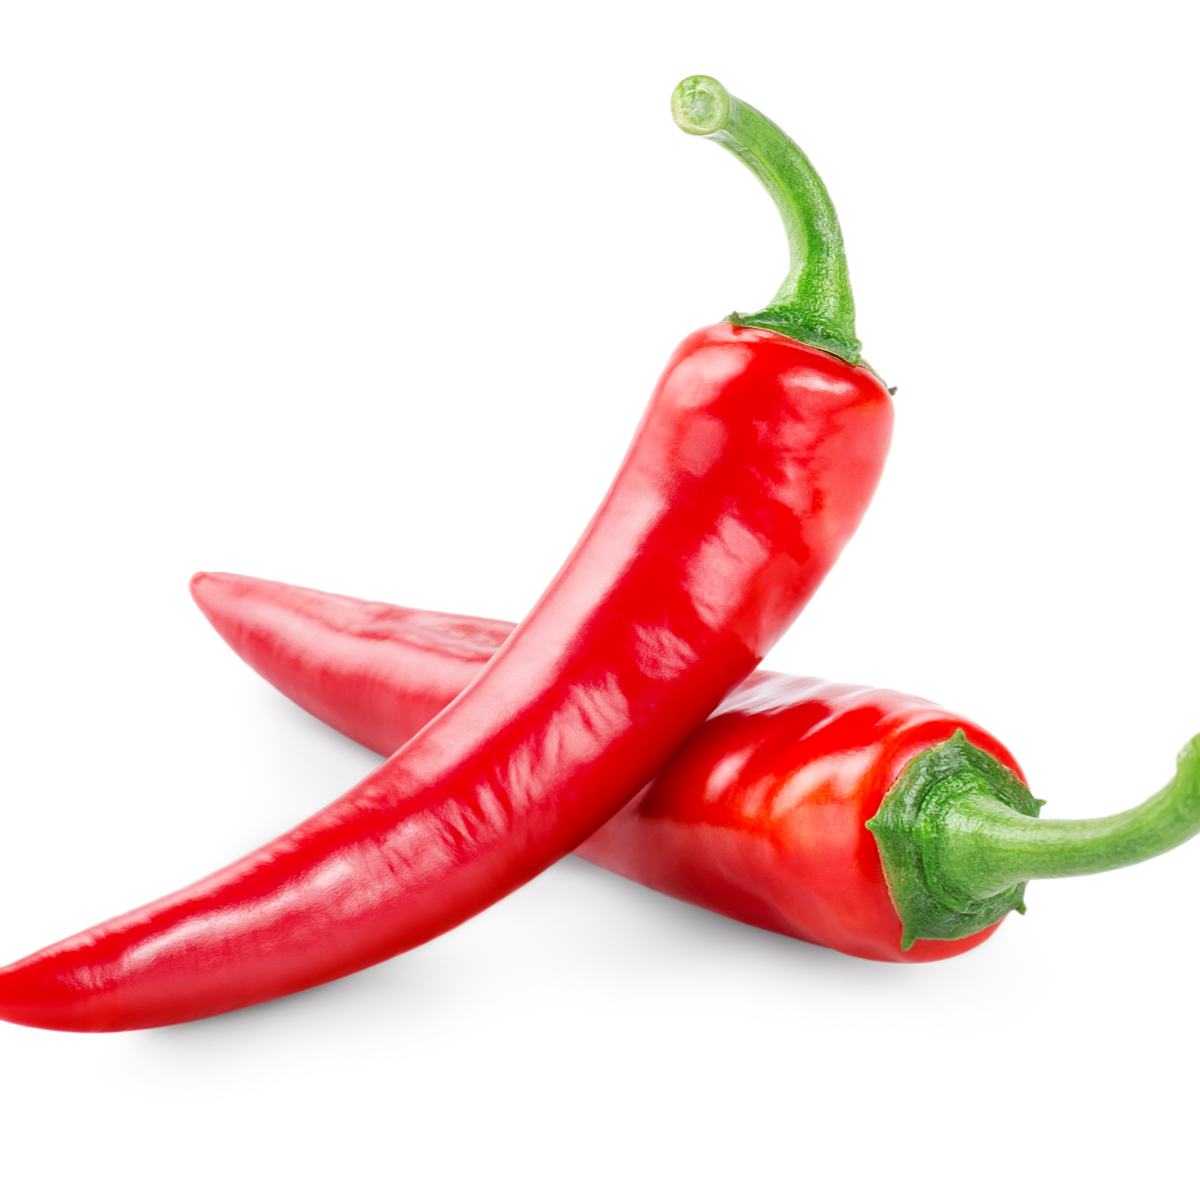Cabai: (15, 27, 1153, 1147)
